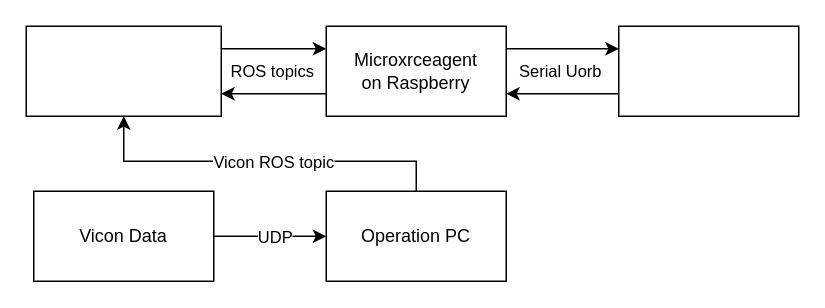
Some shapes in this 825 by 308 pixel diagram are drawn without their labels. Each missing label, with the box of its shape:
Flight controller: (617, 25, 799, 116)
Operation PC Running drone software: (25, 25, 221, 116)
